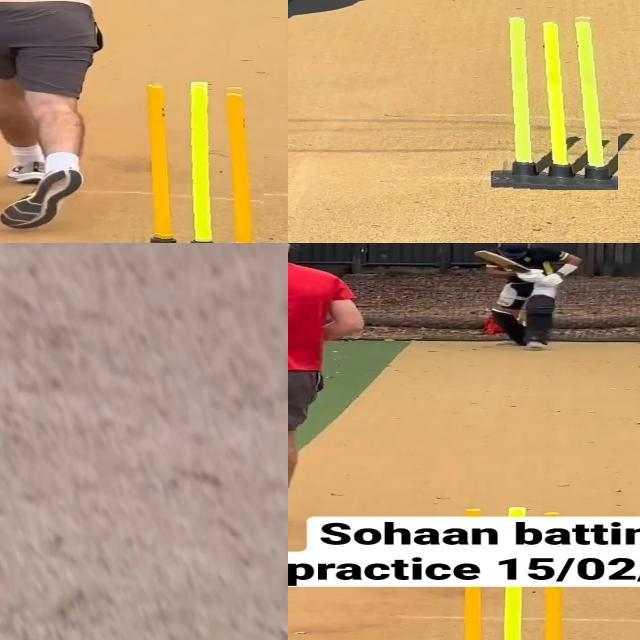Stumps: (126, 82, 263, 243), (494, 13, 618, 190), (449, 587, 577, 640)
